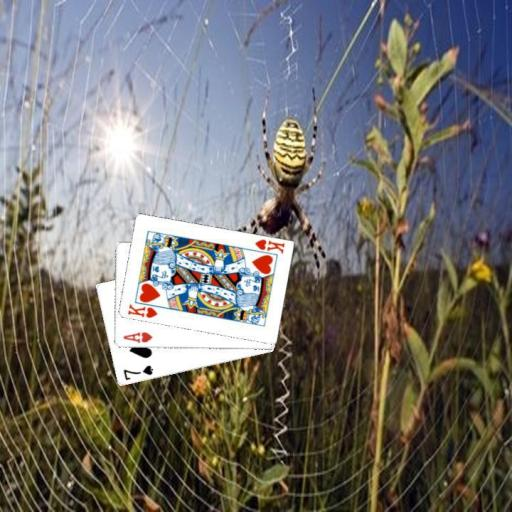7S: (120, 362, 154, 382)
AH: (120, 328, 154, 345)
KH: (251, 236, 286, 255), (125, 301, 159, 320)
